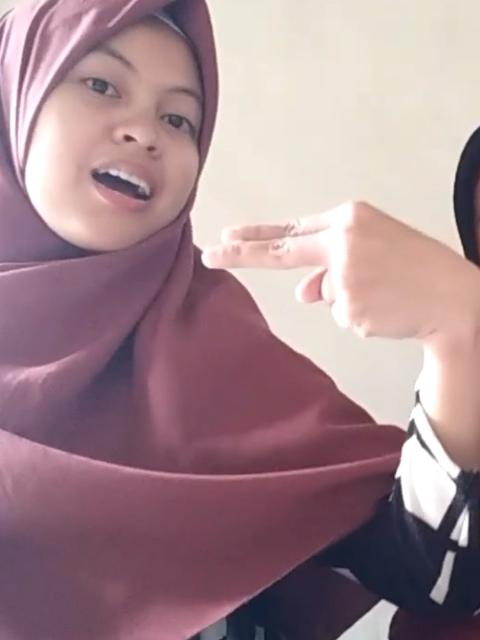H: (198, 195, 480, 348)
